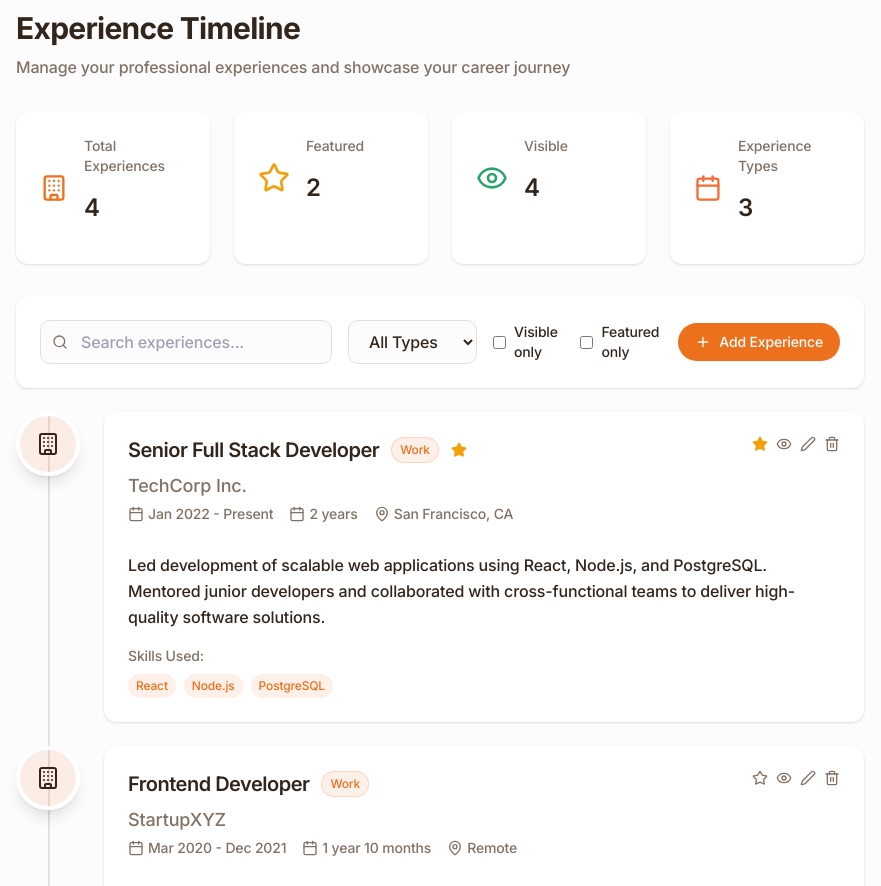
Scenario: ExperienceTimeline › Search & Filtering › search input filters by organization
The image size is (881, 886).
Expected: the text "TechCorp Inc." is shown, [128,475,247,496]
Step 1. Type "StartupXYZ" into the field with placeholder "Search experiences..." → (186,342), box [40,320,332,364]
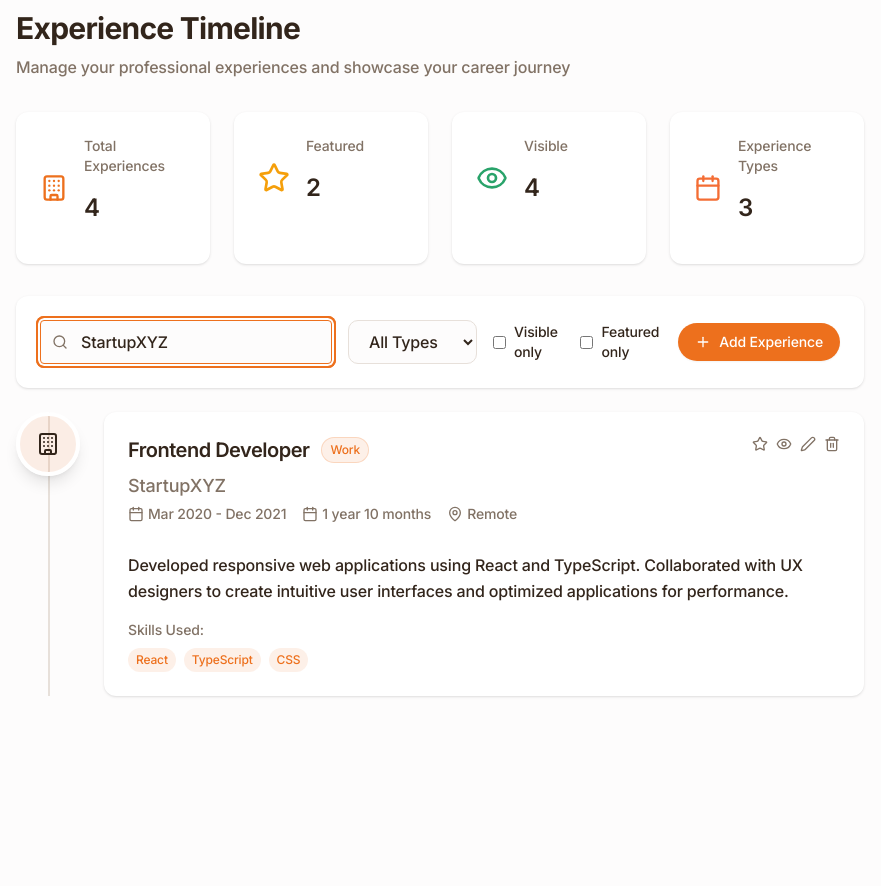
Expected: the text "StartupXYZ" is shown, [128,475,226,496]
Expected: the text "TechCorp Inc." is gone
